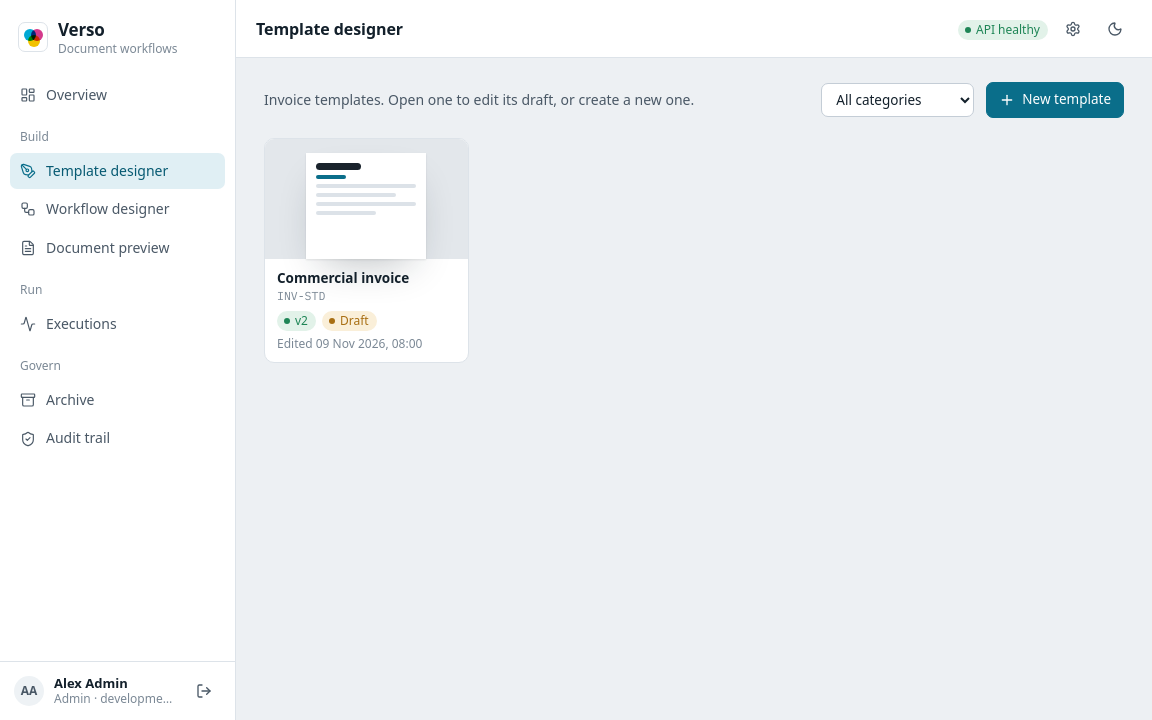
Template list › new template dialog has an optional Category select defaulting to None
This screenshot has width=1152, height=720.
Click the button "New template". click: (1055, 100)
box: [986,82,1124,118]
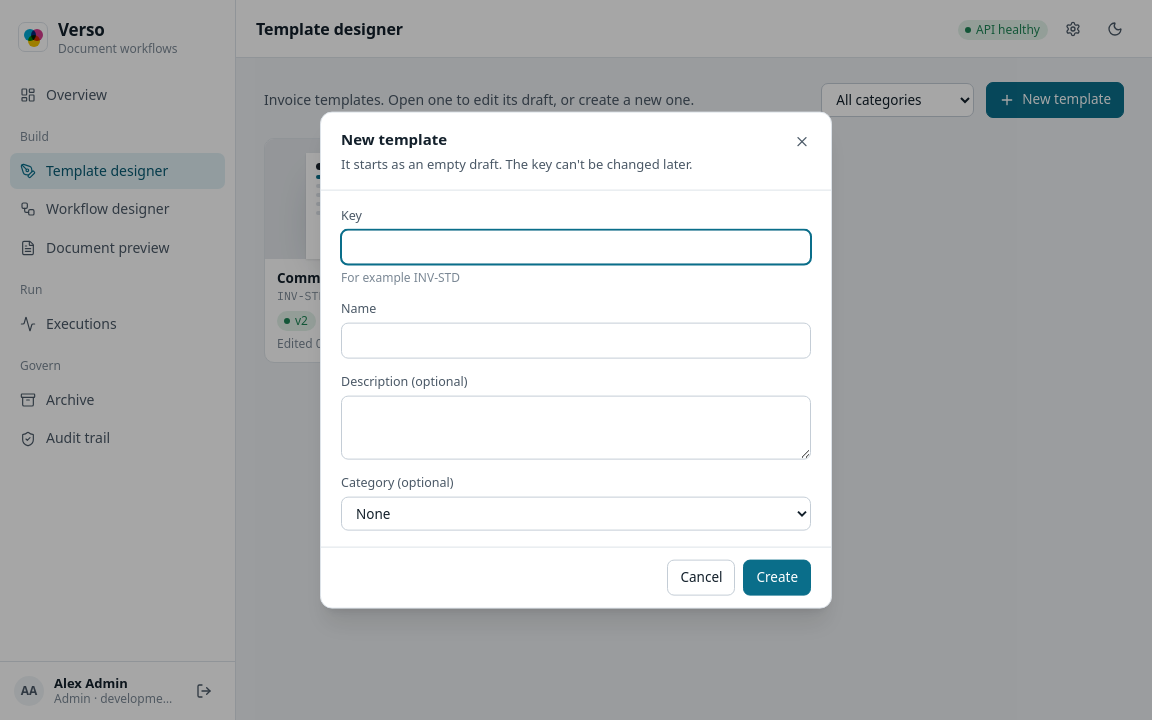
Result: the dropdown labelled "Category (optional)" shows "None" at [341,497,811,531]
